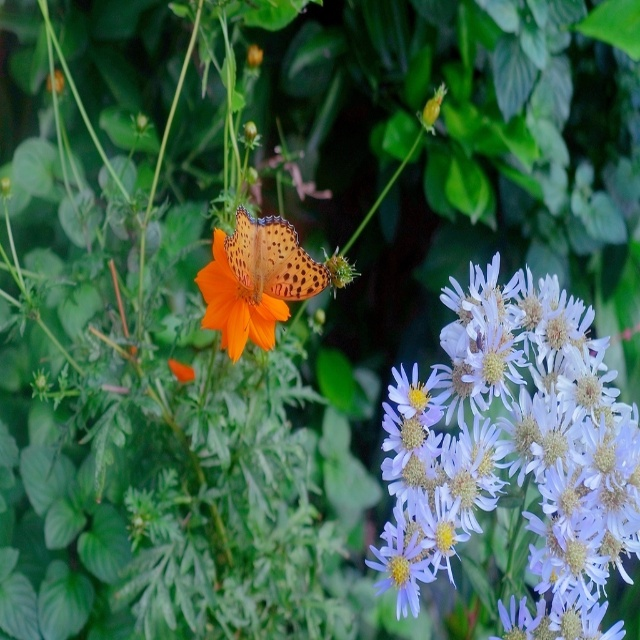Butterfly: (224, 204, 332, 331)
